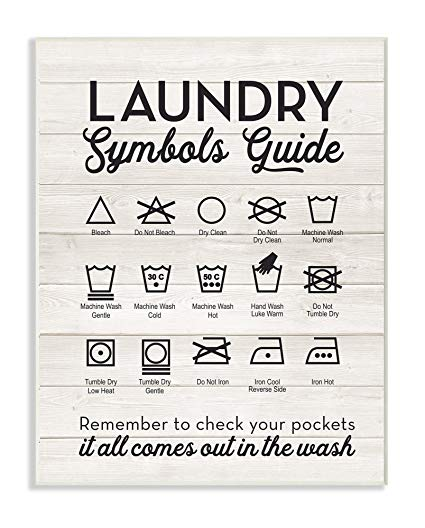do_not_bleach: (133, 195, 179, 228)
do_not_dry_clean: (244, 195, 292, 227)
do_not_iron: (190, 336, 237, 367)
